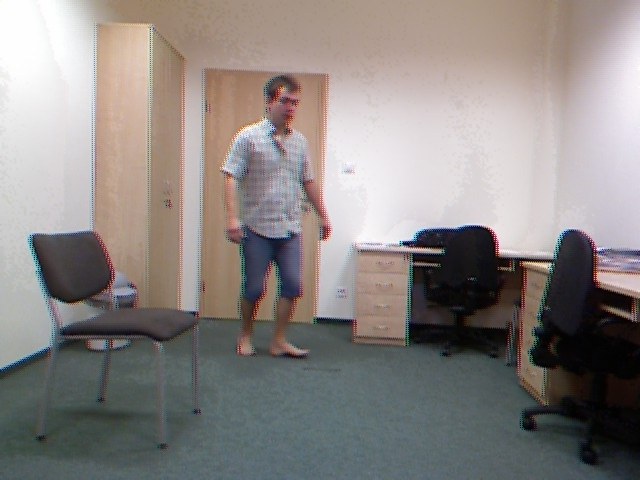not_fallen: (216, 73, 340, 360)
